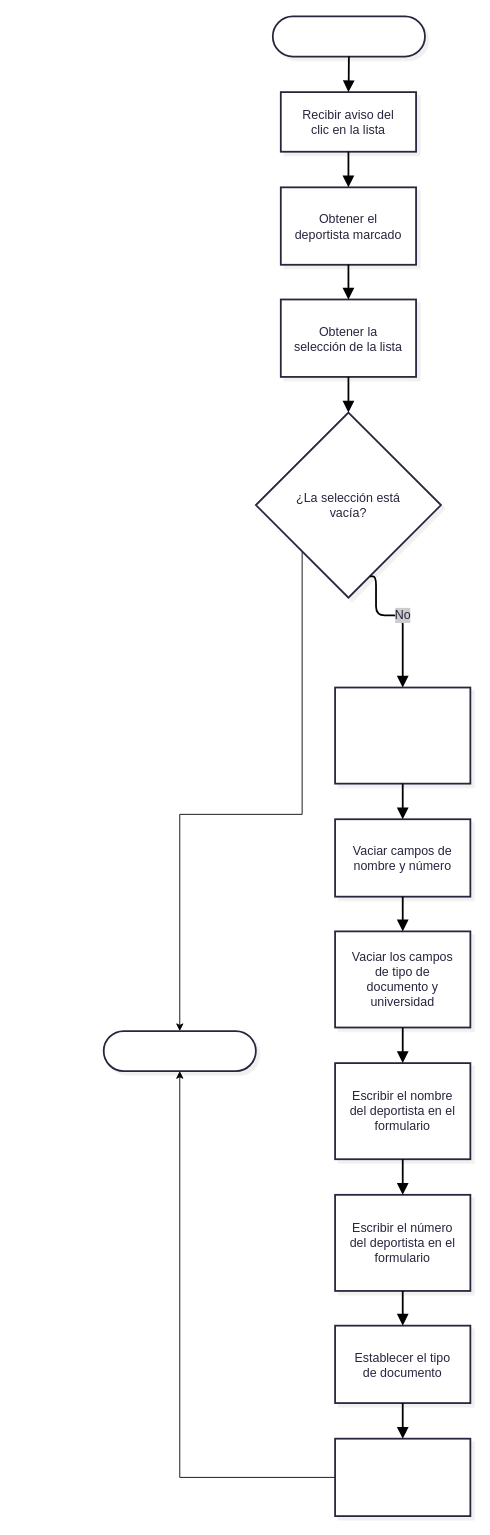
The diagram is 490 pixels wide and 1535 high, and some of its shapes have lost their labels. Each missing label, with the centre of its shape:
"Establecer el nombre de la universidad" belongs at pixel 404 1478.
"Fin" belongs at pixel 181 1052.
"Inicio" belongs at pixel 350 38.
"Obtener el deportista visible seleccionado" belongs at pixel 404 737.
